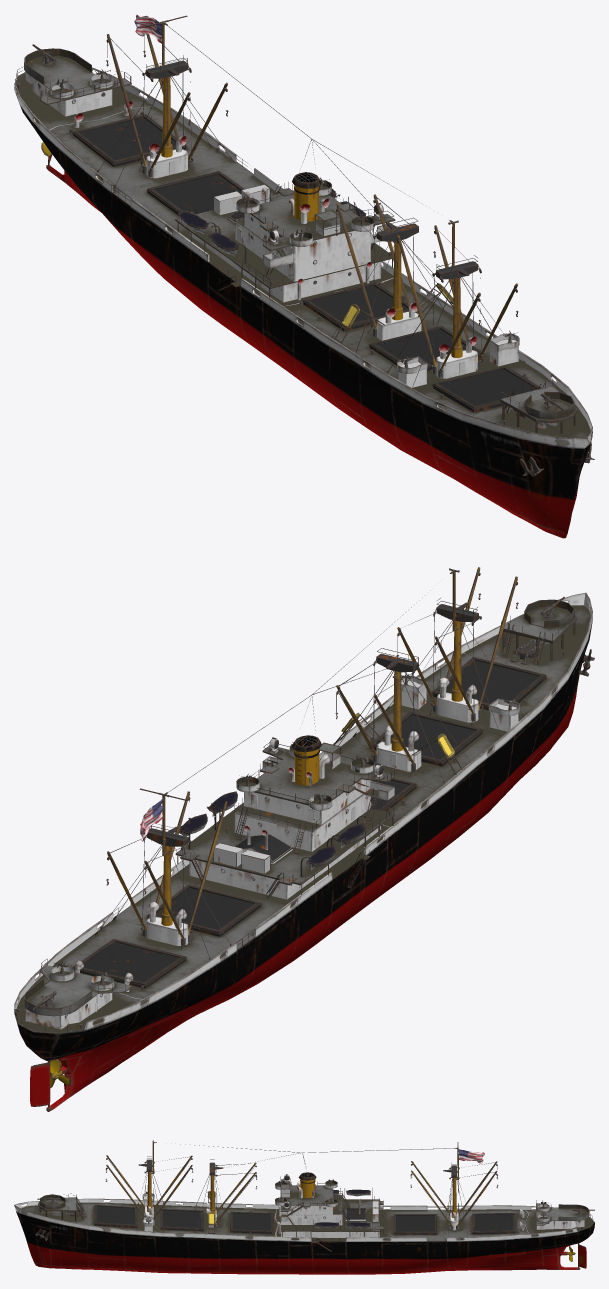
Rendered from liberty_ship.glb.
3 renders of one model, top to bottom at view 1: azimuth 30°, elevation 25°; view 2: azimuth 150°, elevation 25°; view 3: azimuth 270°, elevation 25°, orthographic. The views are drawn at different scales.
Parts seen in each view (by area): view 1: uvflatten1; view 2: uvflatten1; view 3: uvflatten1.
Boxes of the visible parts, <box> form: uvflatten1: <box>14,15,594,538</box>; uvflatten1: <box>14,567,594,1111</box>; uvflatten1: <box>14,1140,594,1274</box>.
Bounding box in the file's own units: 0.0212 × 0.0344 × 0.1407.
1 material, 1 textured.
